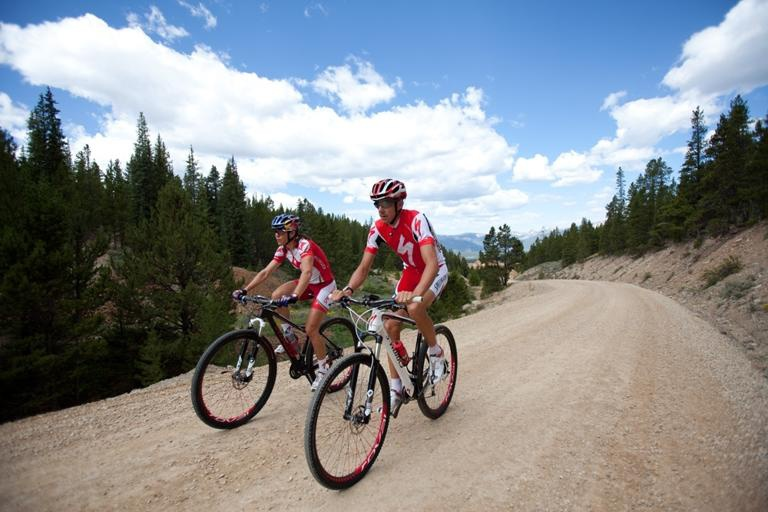non-vehicle: (304, 292, 457, 489), (190, 292, 361, 429)
